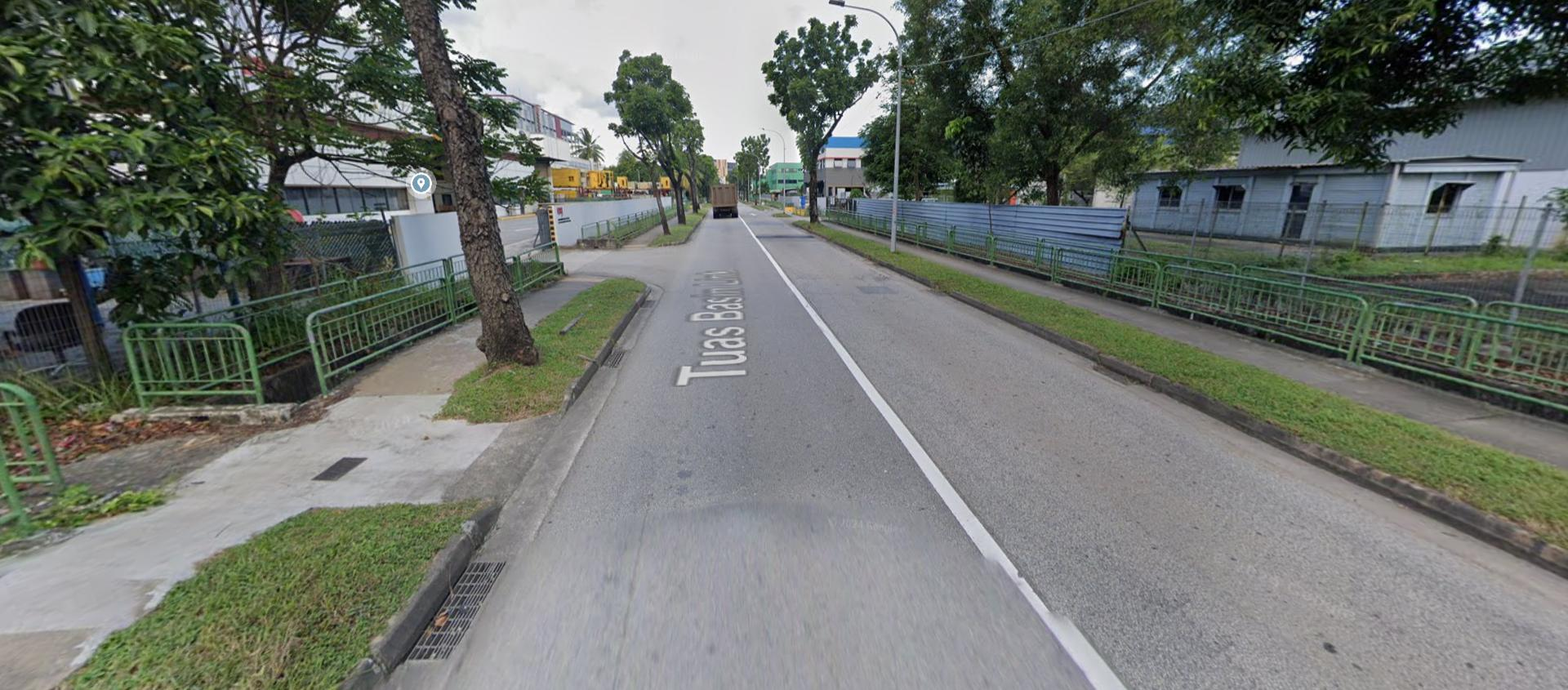normal: (410, 560, 509, 661), (604, 350, 628, 368)
